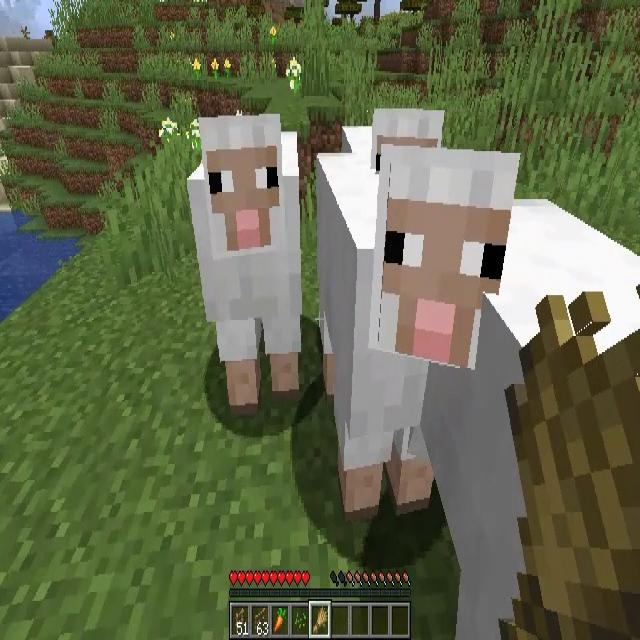flower: (158, 120, 182, 150), (286, 54, 300, 94), (187, 122, 201, 148), (209, 58, 218, 81), (268, 22, 276, 46), (222, 57, 230, 78), (192, 58, 200, 74)
sheep: (418, 201, 638, 640), (315, 153, 511, 521), (194, 120, 300, 396)
